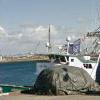Boat: (32, 28, 99, 77)
